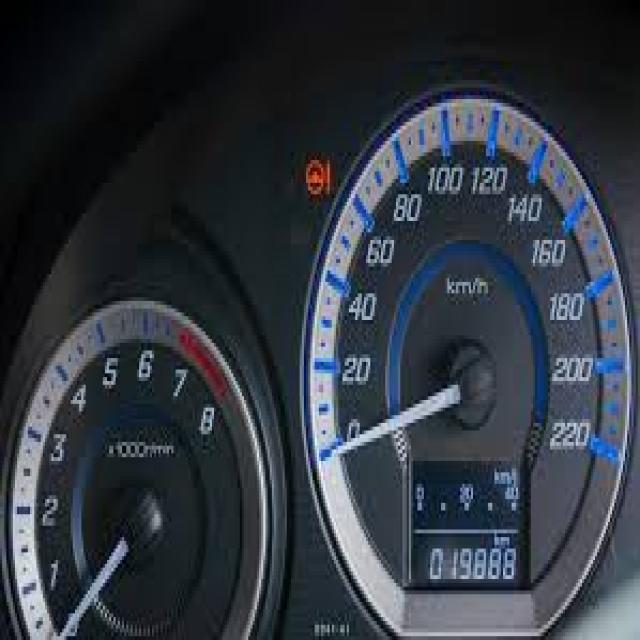kontrolka: (300, 144, 336, 209)
